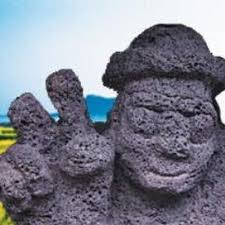Stone Statue: (0, 11, 225, 225)
